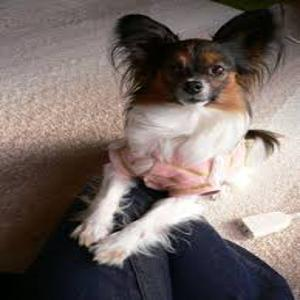yell: (73, 8, 281, 267)
